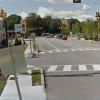Tree: (26, 8, 90, 44)
